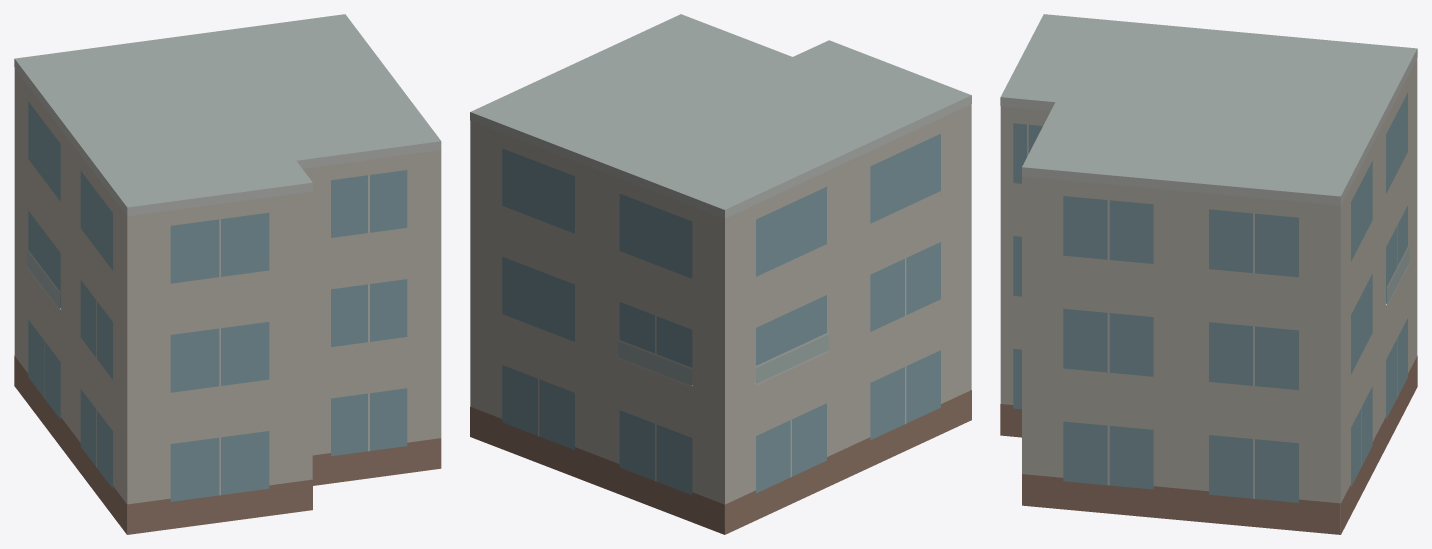
File: survey-upis-32823954.glb
3 views of the same model, side by side, from view 1: azimuth 30°, elevation 25°; view 2: azimuth 150°, elevation 25°; view 3: azimuth 270°, elevation 25° (orthographic). The views are drawn at different scales.
Visible parts, largest first — view 1: survey-upis-32823954.tmp; view 2: survey-upis-32823954.tmp; view 3: survey-upis-32823954.tmp.
Part boxes in pixels (x1=…): survey-upis-32823954.tmp: x1=14, y1=14, x2=441, y2=534; survey-upis-32823954.tmp: x1=470, y1=14, x2=971, y2=534; survey-upis-32823954.tmp: x1=1000, y1=14, x2=1417, y2=534.
Size of the model in its own units: 10.59 by 9.15 by 10.23.
